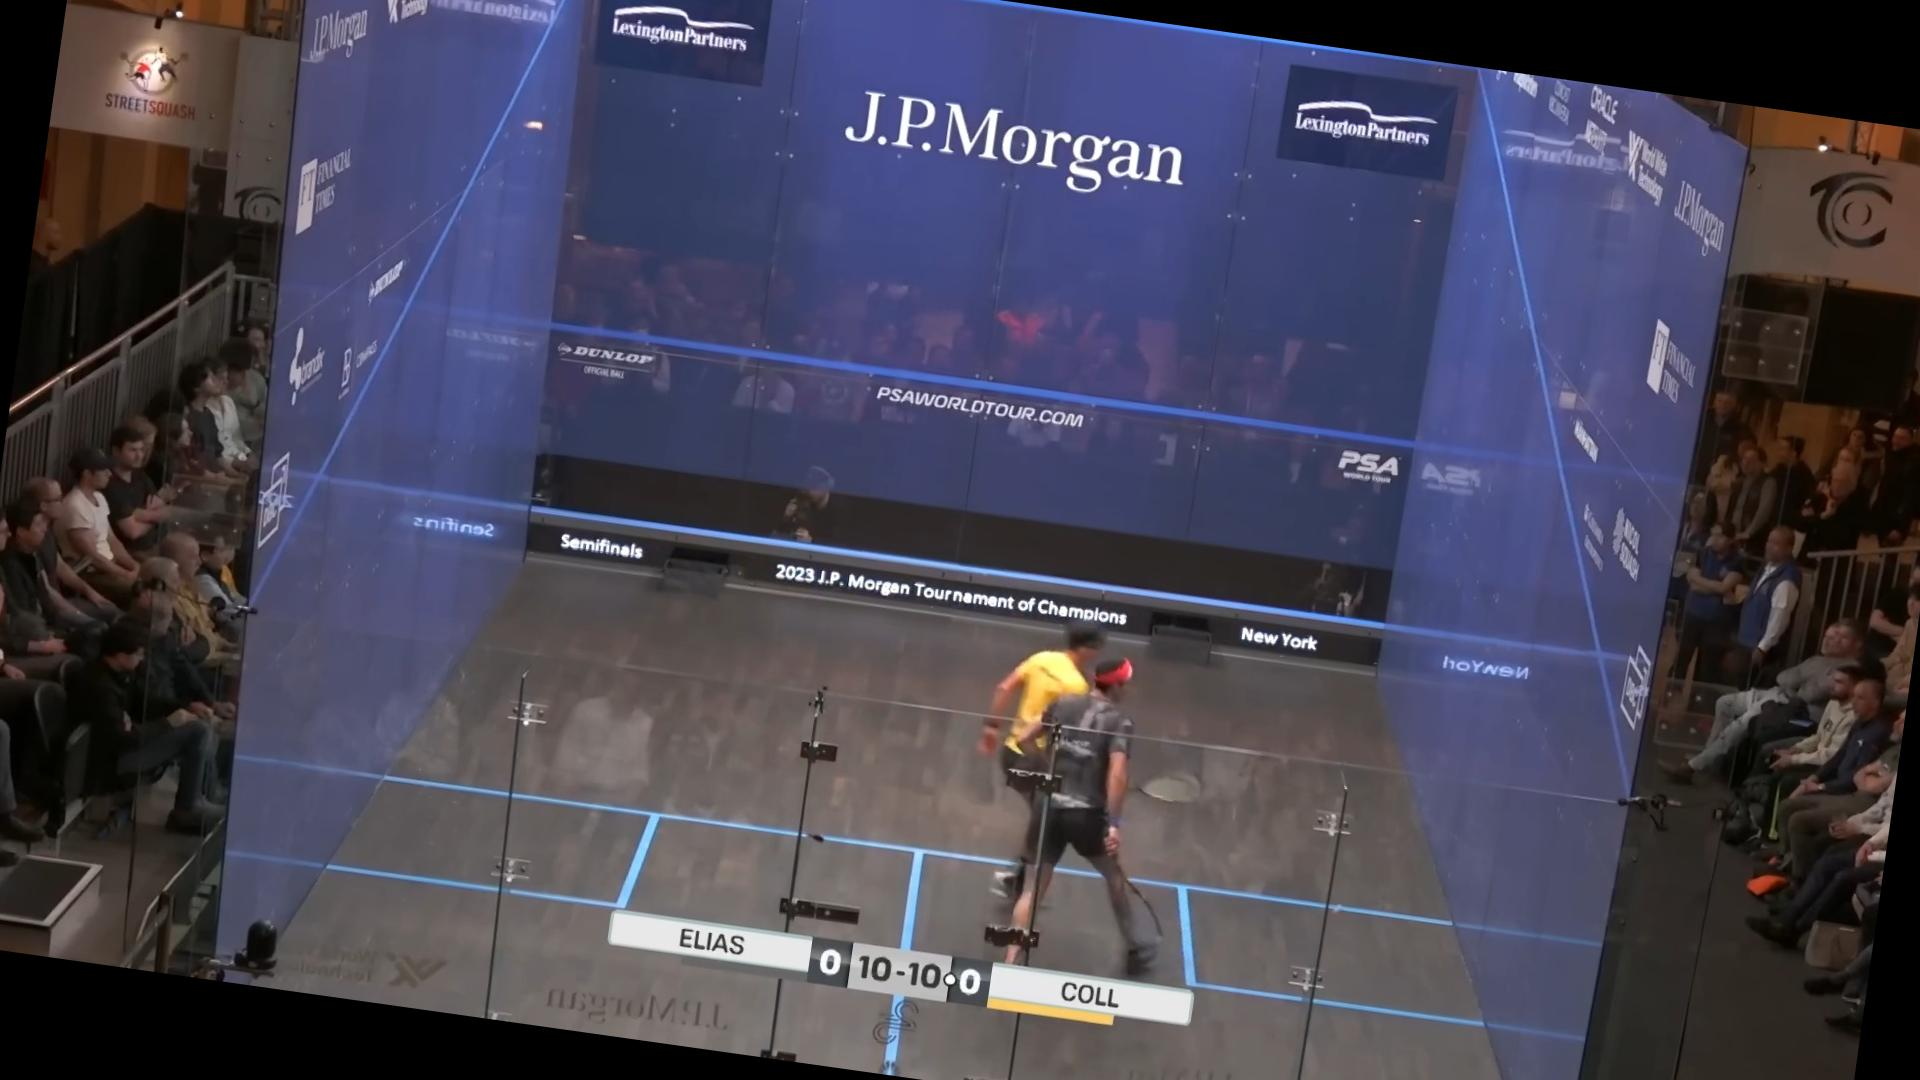Racket: (1092, 853, 1180, 956)
